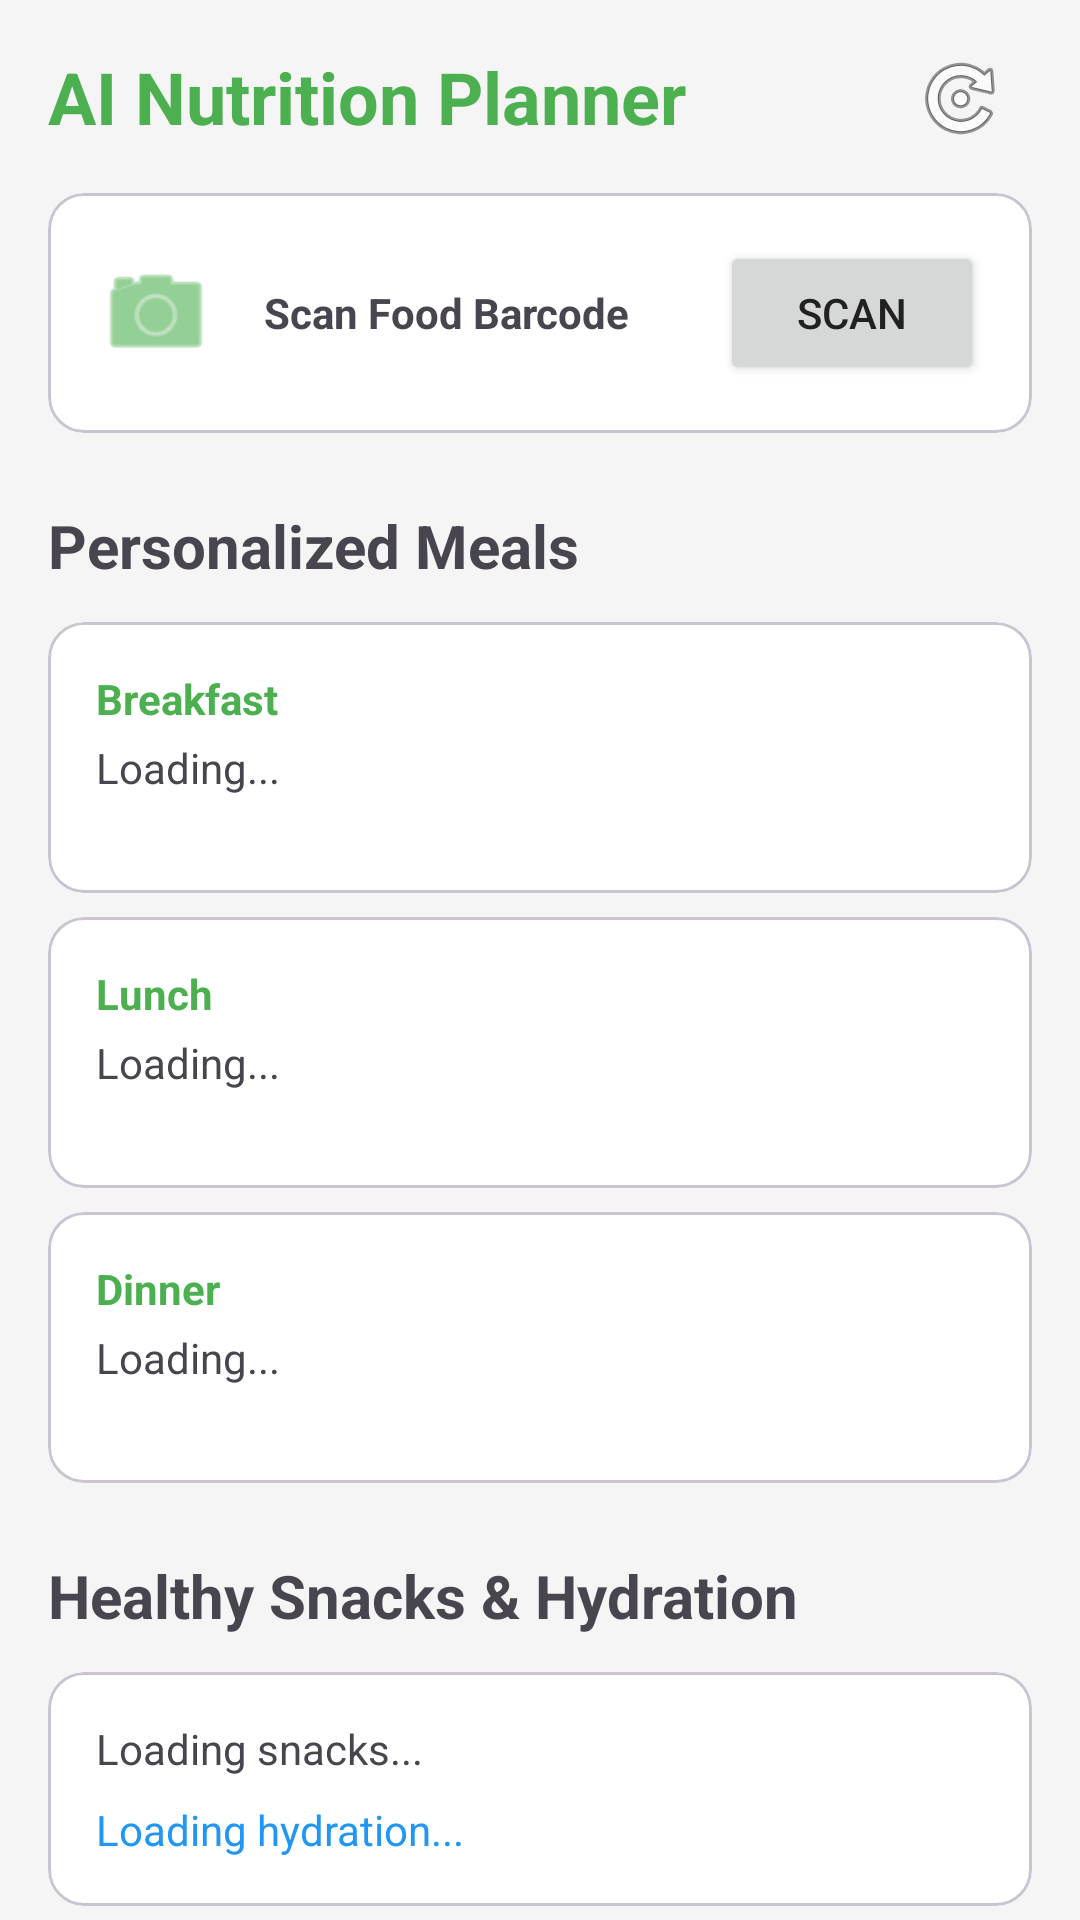

Icons on this 1080 x 1920 Android screen, each with its box as (x1, y1, x2, y2):
Refresh Recommendations: (925, 63, 995, 134)
Scanner: (110, 274, 202, 348)
